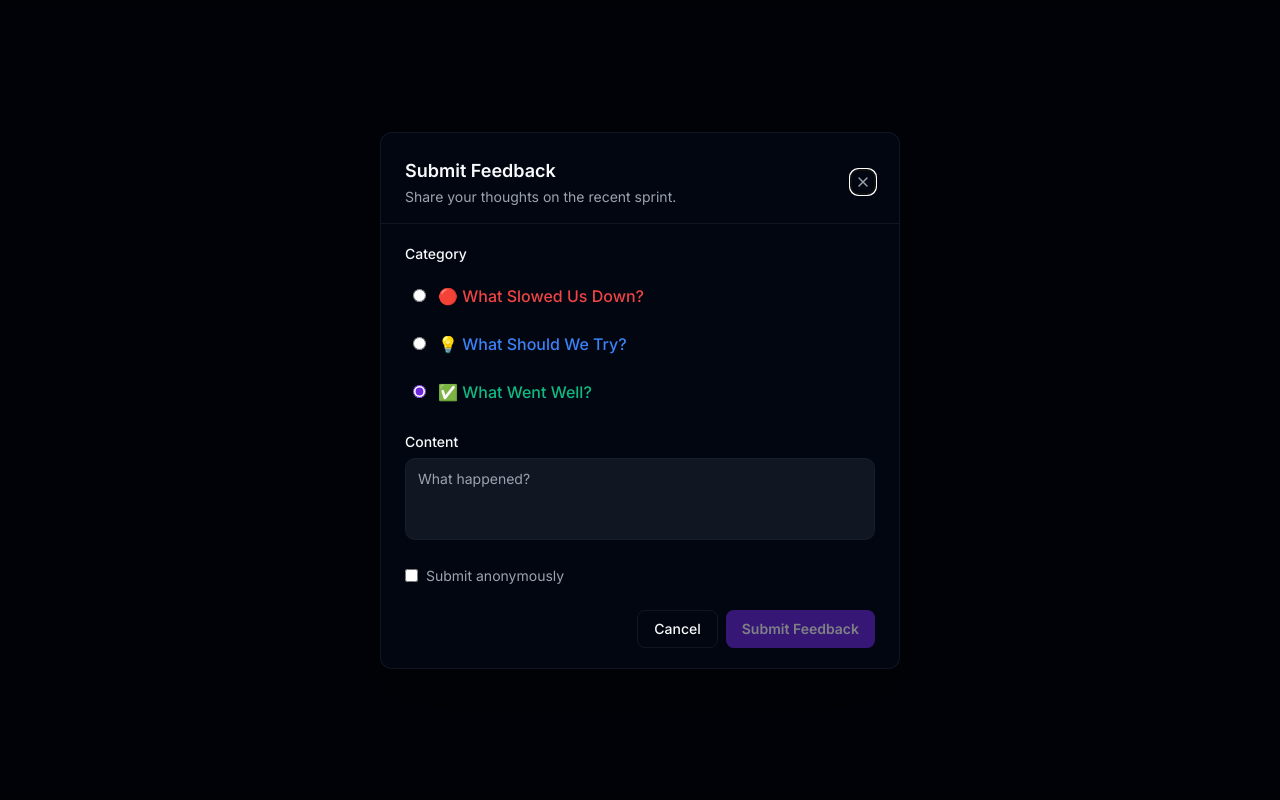
Scenario: EH-6: SubmitFeedbackModal — submit disabled when content empty; enabled after typing
This screenshot has width=1280, height=800.
Expected: the button with test id "modal-submit-btn" is disabled, x1=726 y1=610 x2=875 y2=648
Type "This is some feedback" into the text box with test id "sfm-content" at (640, 498), box x1=405 y1=458 x2=875 y2=540
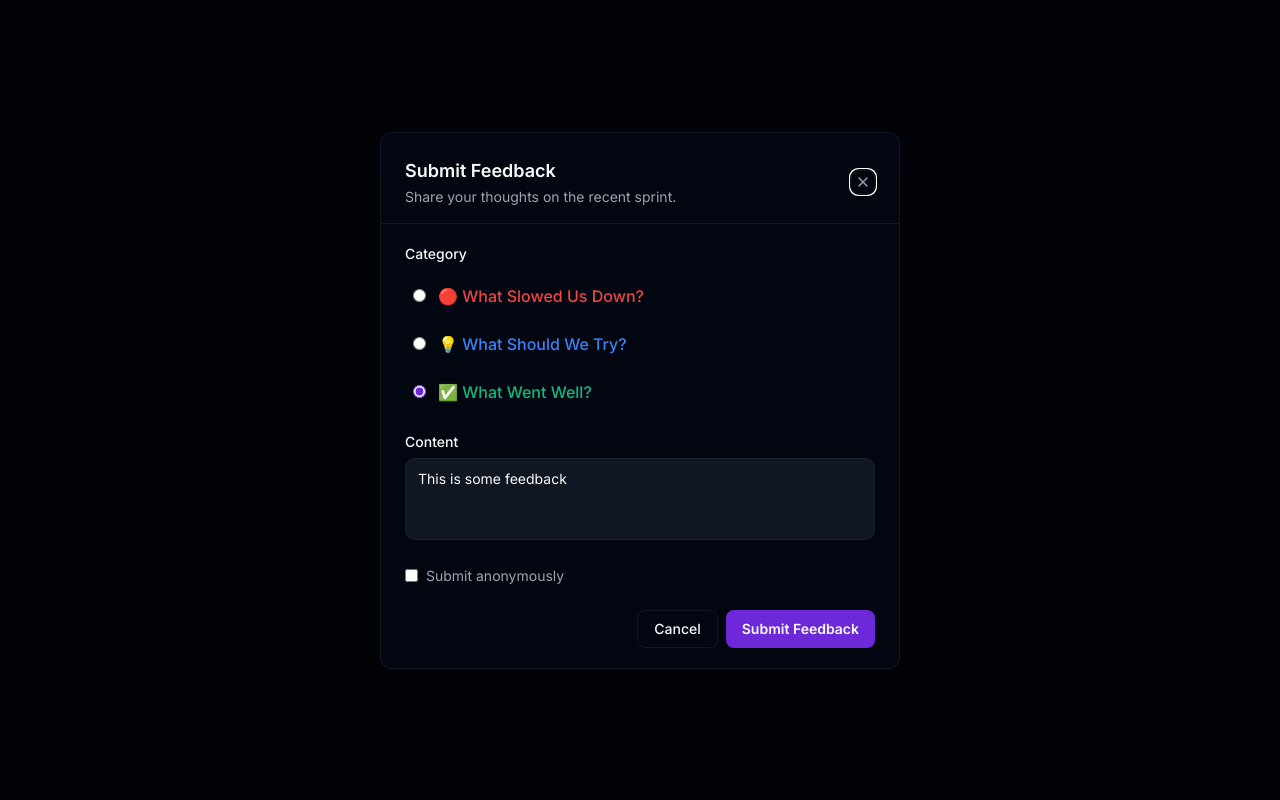
Expected: the button with test id "modal-submit-btn" is enabled, x1=726 y1=610 x2=875 y2=648
Clear the text box with test id "sfm-content" at (640, 498), box x1=405 y1=458 x2=875 y2=540
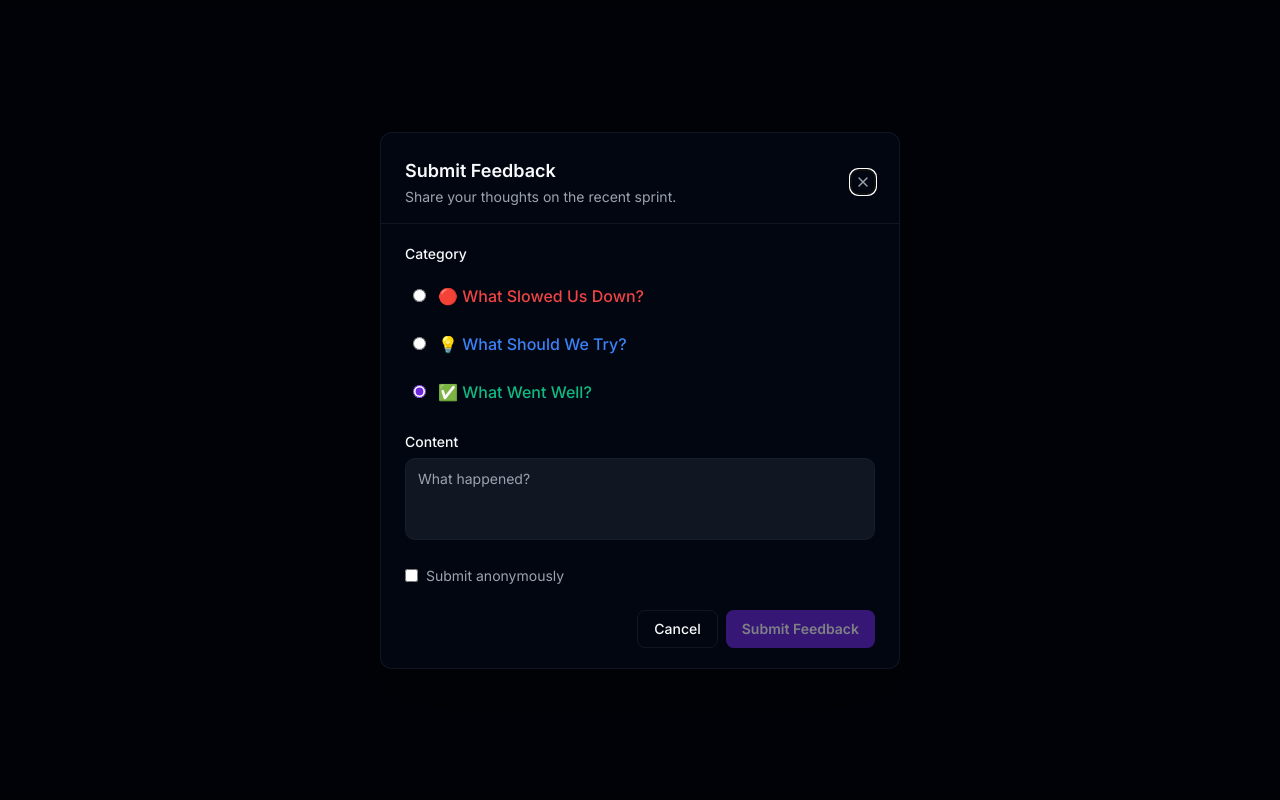
Expected: the button with test id "modal-submit-btn" is disabled, x1=726 y1=610 x2=875 y2=648
